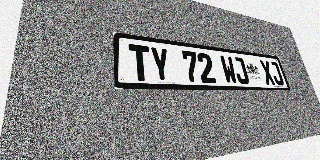2: (196, 52, 216, 83)
7: (180, 50, 201, 83)
J: (232, 57, 250, 84), (268, 61, 285, 85)
T: (128, 44, 152, 81)
W: (219, 55, 238, 84)
X: (259, 60, 276, 85)
Y: (149, 46, 172, 82)
